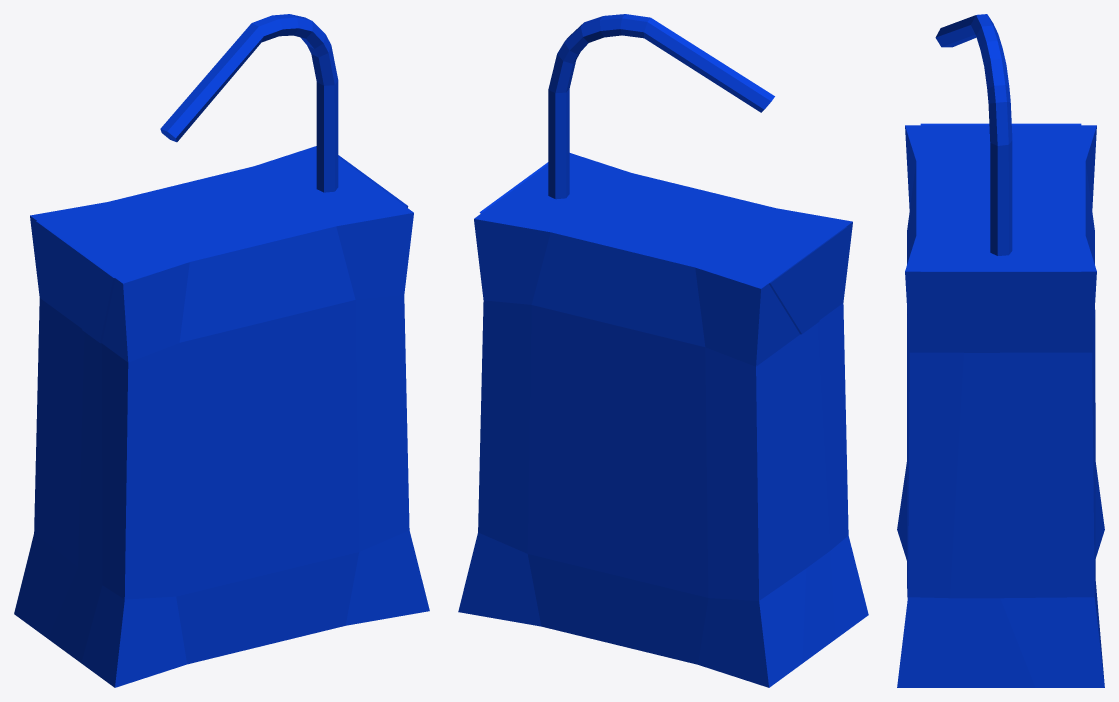
Rendered from juicebox.fbx.
The picture shows the model from 3 angles, left to right: view 1: azimuth 30°, elevation 25°; view 2: azimuth 150°, elevation 25°; view 3: azimuth 270°, elevation 25°; orthographic projection. The views are drawn at different scales.
Parts seen in each view (by area): view 1: Juicebox_low; view 2: Juicebox_low; view 3: Juicebox_low.
Part boxes in pixels (x1,y1,x2,y2): Juicebox_low: [14, 14, 429, 687]; Juicebox_low: [458, 14, 868, 687]; Juicebox_low: [897, 14, 1104, 687].
Bounding box in the file's own units: 13.2 × 23.57 × 7.32.
